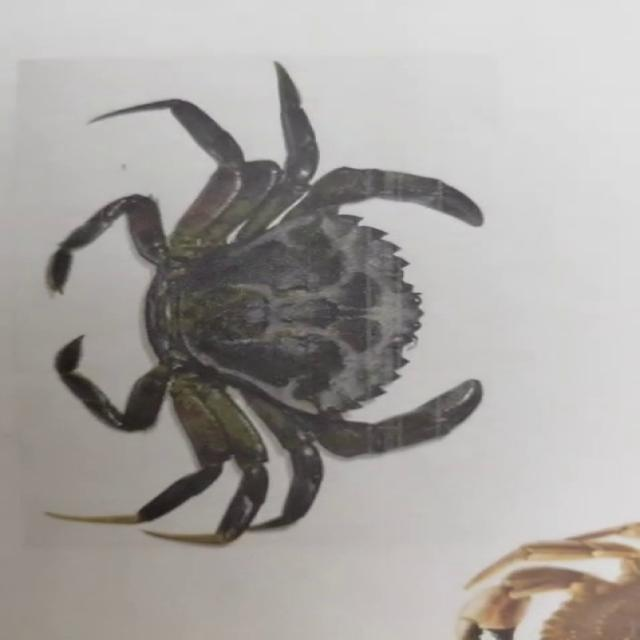egc: (48, 62, 482, 546)
